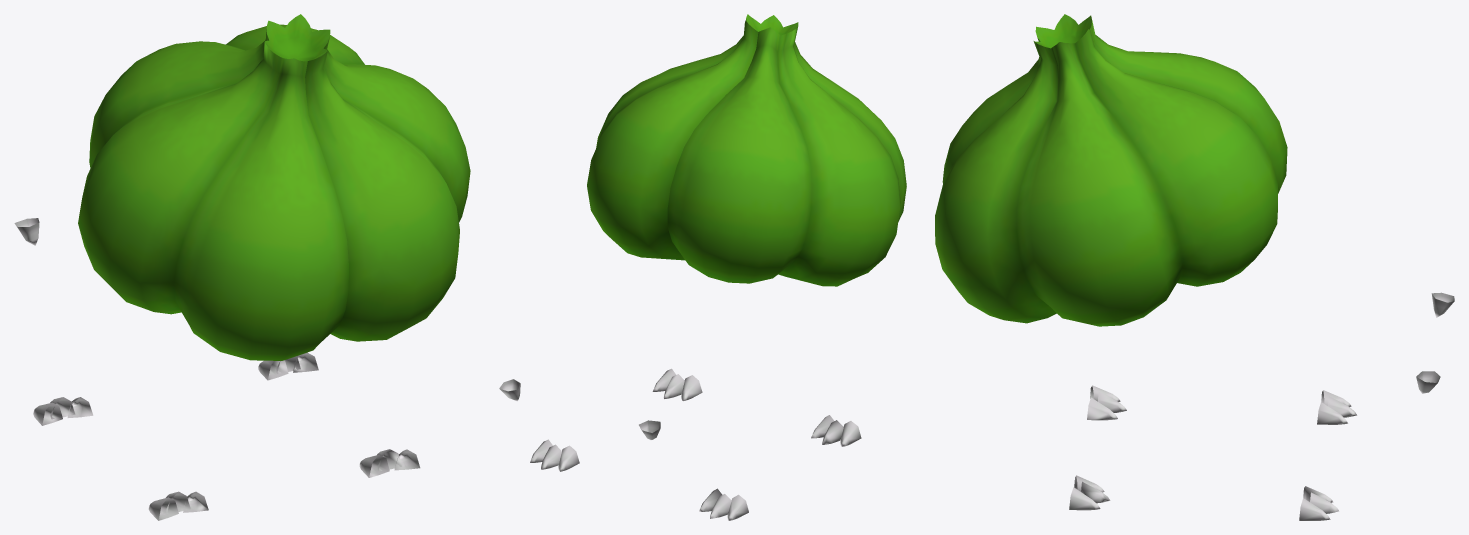
Rendered from object_1_lev1_lev2.glb.
3 renders of one model, left to right at view 1: azimuth 30°, elevation 25°; view 2: azimuth 150°, elevation 25°; view 3: azimuth 270°, elevation 25°, orthographic. The views are drawn at different scales.
Parts seen in each view (by area): view 1: object_1_lev1_lev2; view 2: object_1_lev1_lev2; view 3: object_1_lev1_lev2.
Part boxes in pixels (x1=…): object_1_lev1_lev2: x1=14, y1=14, x2=470, y2=520; object_1_lev1_lev2: x1=499, y1=14, x2=906, y2=520; object_1_lev1_lev2: x1=935, y1=14, x2=1454, y2=520.
Bounding box in the file's own units: 3.14 × 4.01 × 4.37.
1 material, 1 textured.
